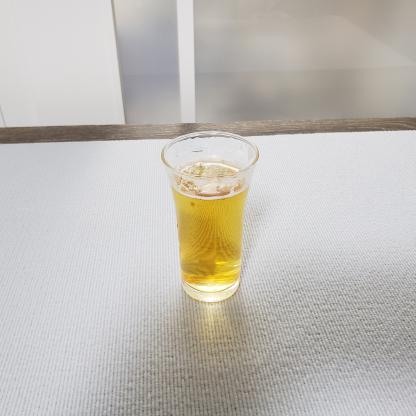glass: (154, 123, 278, 318)
